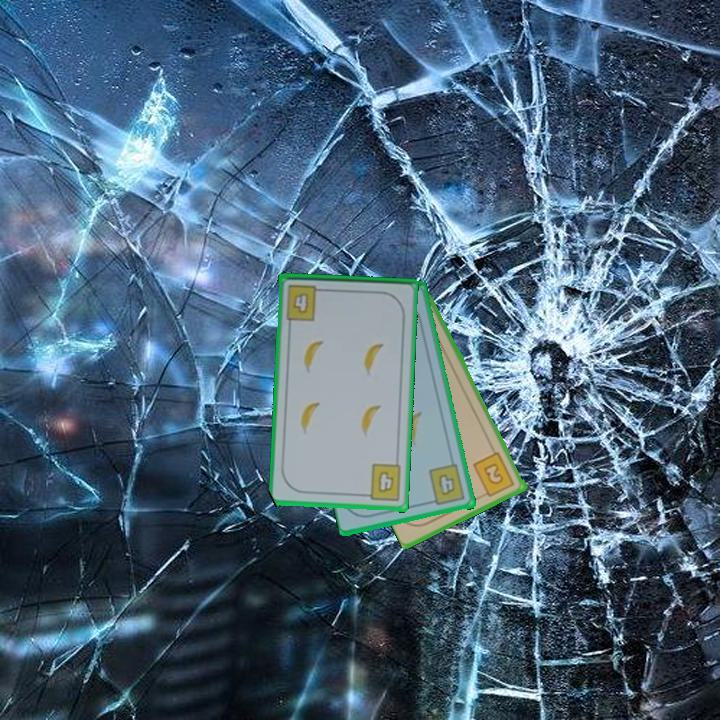2b: (470, 449, 517, 500)
4b: (425, 461, 468, 508), (359, 461, 404, 504), (283, 281, 327, 323)
